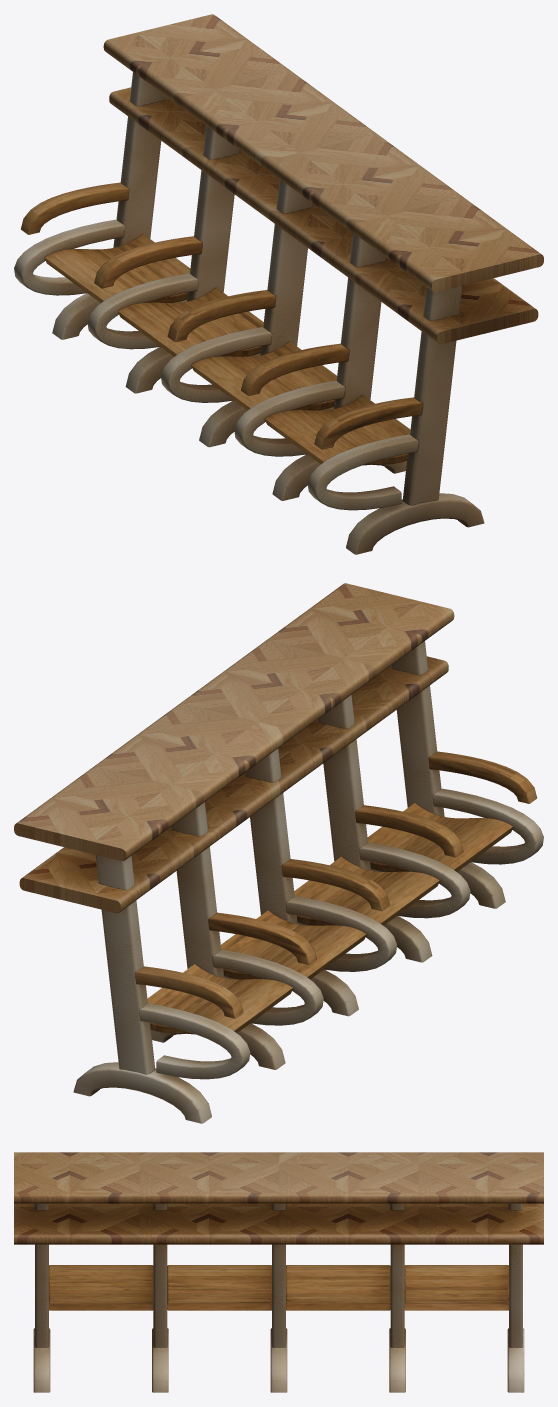
File: deskChairPro.glb
3 views of the same model, one above another, from view 1: azimuth 30°, elevation 25°; view 2: azimuth 150°, elevation 25°; view 3: azimuth 270°, elevation 25° (orthographic). The views are drawn at different scales.
Parts seen in each view (by area): view 1: 桌椅_baked_Baked; view 2: 桌椅_baked_Baked; view 3: 桌椅_baked_Baked.
Boxes of the visible parts, bbox=[...] form: 桌椅_baked_Baked: bbox=[14, 14, 543, 554]; 桌椅_baked_Baked: bbox=[14, 583, 543, 1123]; 桌椅_baked_Baked: bbox=[14, 1152, 543, 1392].
Size of the model in its own units: 1.44 by 1.71 by 3.8.
Materials: 1 (1 with a texture image).
